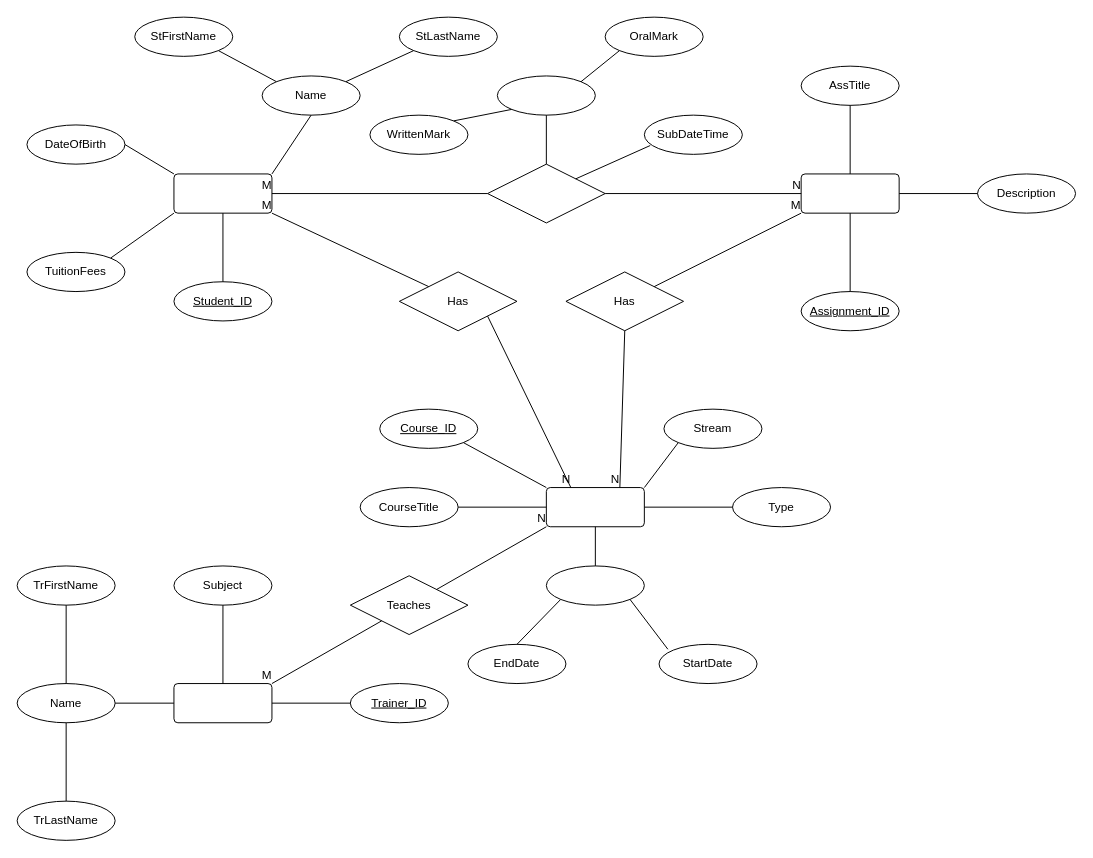
The diagram is 1093 pixels wide and 858 high, and some of its shapes have lost their labels. Each missing label, with the box of its shape:
Assignment: (800, 173, 899, 213)
Course: (545, 487, 644, 527)
Date: (545, 565, 644, 605)
Mark: (496, 75, 595, 115)
Student: (173, 173, 272, 213)
Submits: (487, 163, 605, 223)
Trainer: (173, 683, 272, 723)
